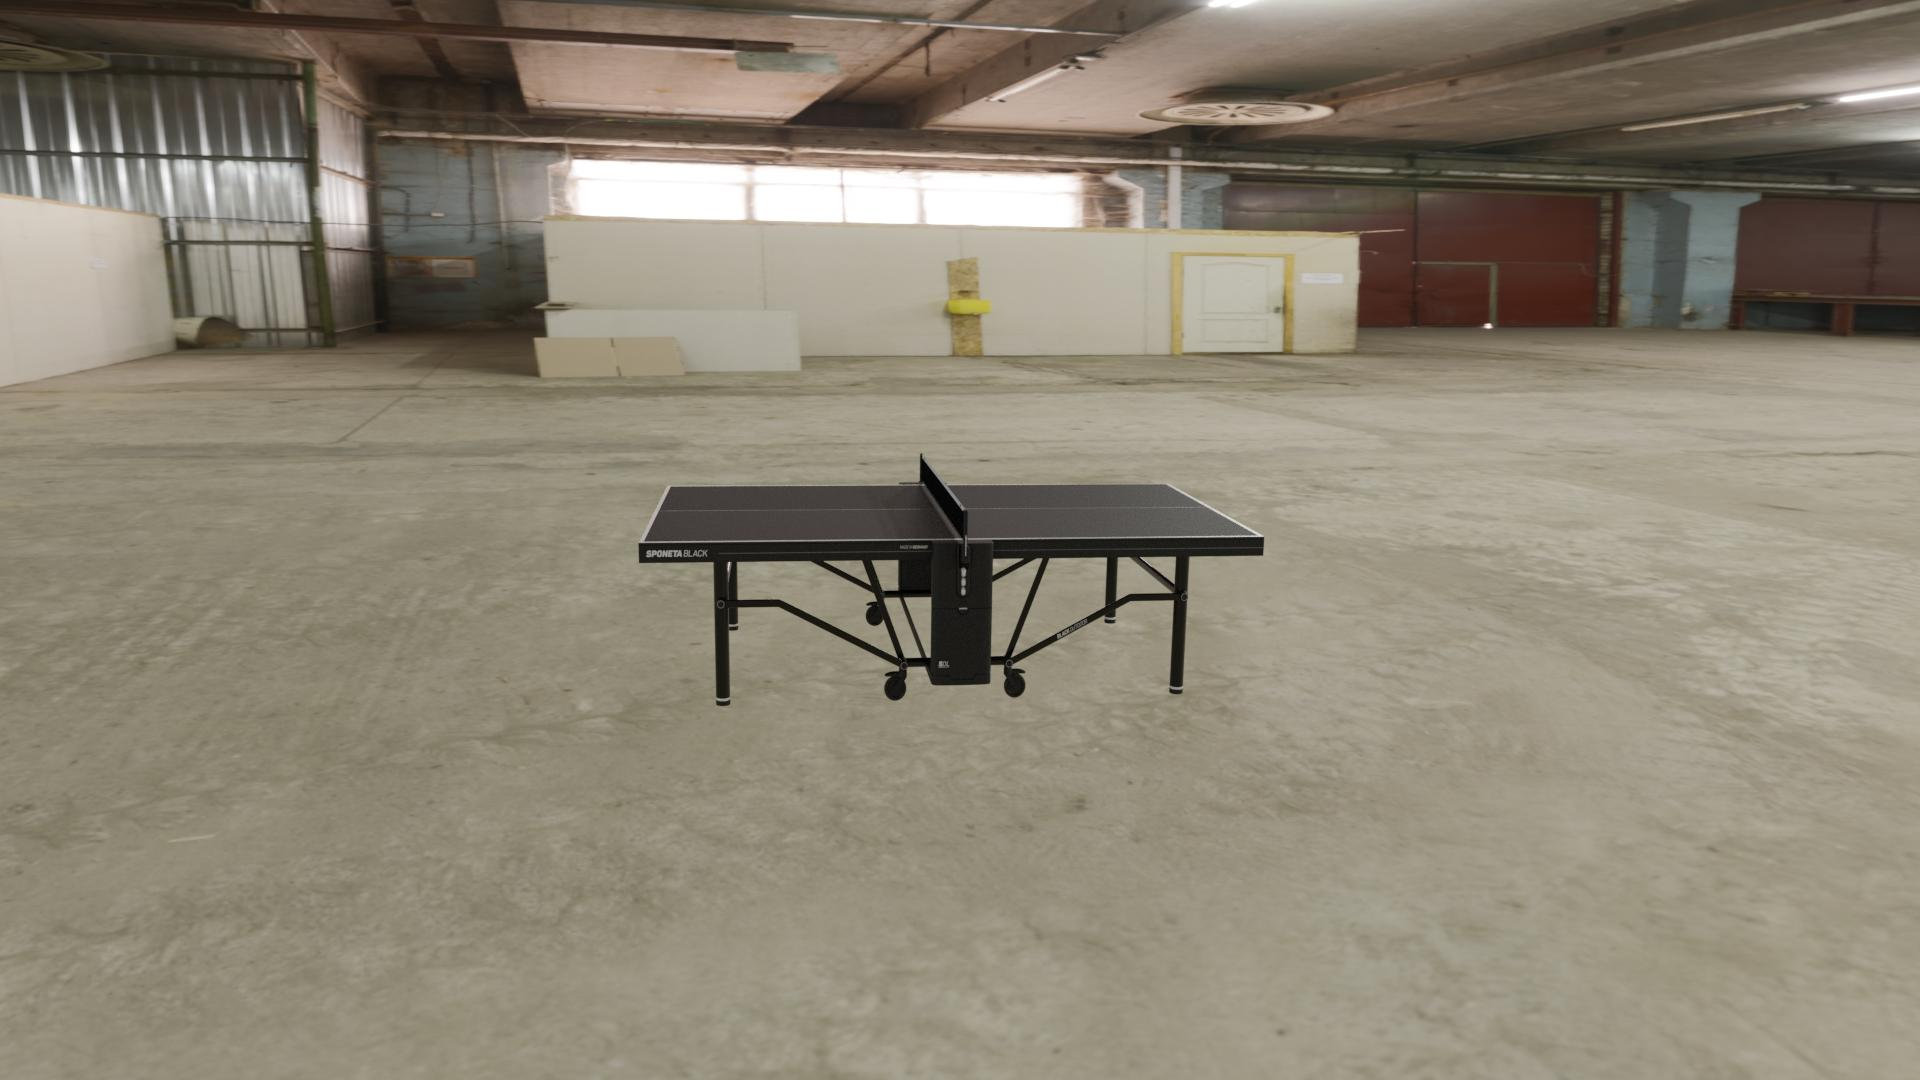table: (644, 484, 1259, 542)
